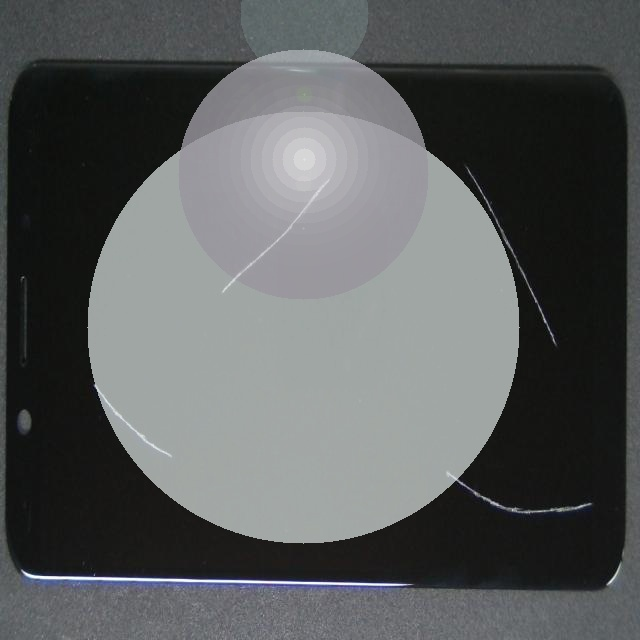scratch: (293, 266, 640, 640), (272, 195, 640, 520), (231, 29, 443, 299), (134, 279, 224, 640)
